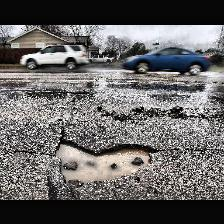pothole: (54, 138, 156, 184), (132, 81, 204, 91), (0, 76, 23, 80)
